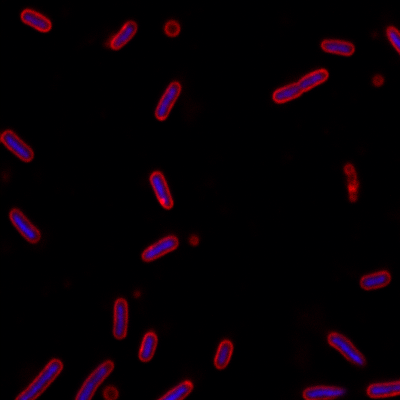Rifampicin: (269, 67, 330, 104), (325, 329, 367, 370), (6, 207, 43, 245), (1, 127, 36, 165), (153, 79, 182, 122), (148, 169, 175, 209), (141, 235, 180, 262), (108, 19, 139, 52), (19, 7, 52, 35), (112, 296, 130, 342), (211, 338, 236, 371), (317, 36, 356, 57), (356, 269, 392, 291), (137, 329, 158, 364)
Vesicle: (163, 18, 182, 38), (101, 385, 121, 400), (370, 72, 385, 88), (185, 234, 201, 247), (130, 288, 142, 301)
